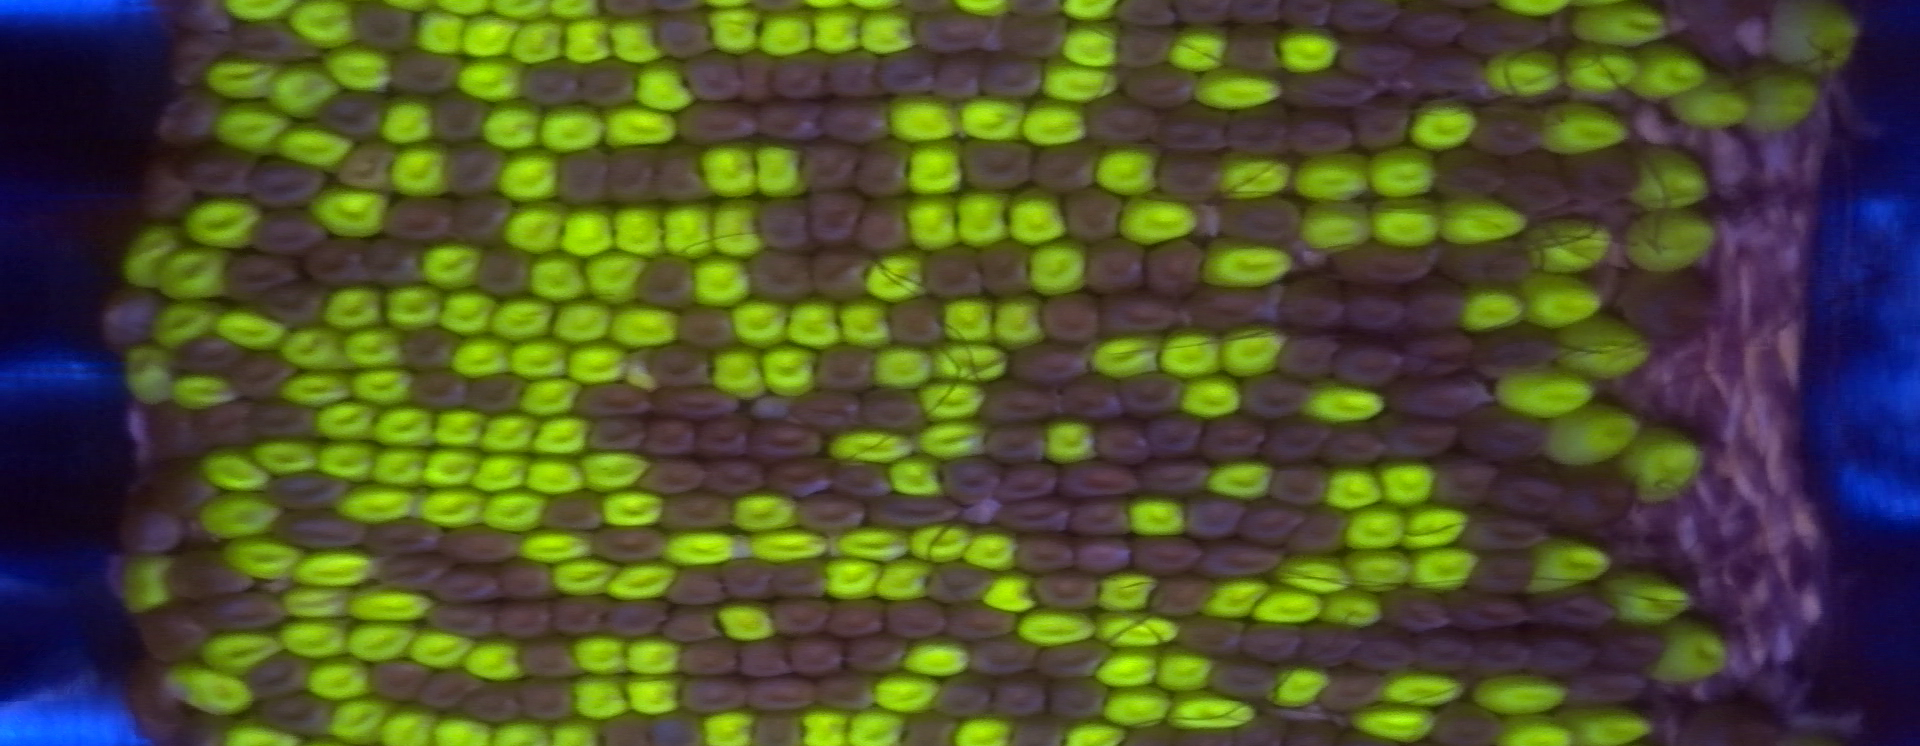fluorescent: (1762, 1, 1861, 85), (1548, 312, 1656, 385), (1542, 394, 1643, 468), (1632, 140, 1713, 222), (1619, 209, 1720, 271), (1736, 60, 1820, 134), (1491, 364, 1598, 420), (1517, 269, 1605, 334), (1622, 432, 1703, 501), (1440, 187, 1531, 247), (1198, 236, 1296, 292), (1622, 40, 1711, 100), (1602, 571, 1693, 628), (1523, 219, 1618, 274), (160, 661, 257, 714), (1036, 53, 1129, 107), (1551, 707, 1675, 746), (1091, 140, 1169, 201), (1537, 100, 1624, 156), (1363, 194, 1445, 251), (1293, 200, 1380, 254), (1570, 4, 1669, 50), (212, 103, 299, 156), (120, 225, 191, 289), (493, 146, 572, 203), (1113, 195, 1202, 245), (156, 243, 235, 299), (1673, 67, 1747, 127), (951, 94, 1036, 147), (313, 187, 396, 241), (1457, 281, 1536, 337), (688, 250, 754, 316), (1656, 626, 1723, 691), (1471, 677, 1578, 718), (1025, 239, 1097, 299), (1211, 149, 1292, 202), (267, 60, 340, 118), (609, 200, 673, 263), (196, 495, 291, 538), (540, 102, 613, 157), (276, 120, 360, 168), (1532, 538, 1608, 590), (569, 675, 649, 725), (1480, 54, 1573, 97), (1348, 704, 1450, 744), (504, 201, 571, 261), (189, 194, 267, 244), (1565, 44, 1641, 96), (902, 136, 966, 197), (283, 1, 362, 50), (864, 251, 933, 307), (224, 537, 305, 584), (457, 638, 531, 690), (1171, 691, 1262, 733), (1153, 327, 1231, 376), (885, 97, 971, 141), (1363, 149, 1444, 196), (596, 103, 681, 147), (324, 44, 397, 96), (864, 338, 932, 393), (1296, 383, 1390, 423), (1018, 97, 1091, 147), (902, 194, 965, 252), (700, 142, 763, 201), (1005, 189, 1069, 246), (1202, 459, 1284, 503), (273, 619, 353, 664), (560, 205, 620, 265), (580, 251, 654, 300), (413, 7, 474, 66), (751, 9, 820, 60), (407, 621, 476, 673), (527, 247, 591, 303), (928, 341, 1014, 382), (825, 428, 913, 468), (479, 488, 551, 537), (481, 97, 550, 148), (850, 9, 923, 56), (954, 189, 1013, 247), (658, 205, 718, 262), (1403, 505, 1476, 552), (200, 447, 276, 492), (214, 306, 290, 352), (336, 486, 418, 528), (564, 341, 639, 386), (1103, 684, 1176, 730), (1264, 666, 1336, 713), (149, 303, 222, 349), (1093, 611, 1179, 650), (279, 328, 353, 374), (1404, 552, 1487, 593), (991, 299, 1048, 356), (786, 298, 846, 353), (599, 488, 673, 532), (1224, 323, 1287, 376), (460, 10, 523, 62), (939, 296, 1000, 349), (977, 570, 1044, 617), (659, 528, 741, 567), (1318, 587, 1392, 630), (197, 631, 284, 668), (612, 303, 681, 349), (211, 58, 283, 102), (752, 143, 808, 200), (1281, 556, 1359, 597), (1091, 337, 1169, 377), (164, 369, 242, 409), (1014, 610, 1097, 648), (1381, 674, 1473, 708), (808, 6, 869, 58), (1205, 578, 1272, 625), (305, 654, 372, 701), (1164, 24, 1228, 73), (376, 96, 440, 145), (345, 587, 436, 621), (839, 296, 895, 352), (115, 555, 171, 610), (441, 290, 506, 338), (1199, 72, 1286, 108), (1123, 495, 1193, 539), (416, 484, 486, 528), (517, 374, 583, 420), (1042, 416, 1103, 467), (869, 675, 945, 715), (1296, 157, 1369, 198), (727, 490, 798, 533), (1378, 461, 1441, 508), (714, 603, 782, 647), (707, 5, 765, 56), (520, 528, 602, 565), (636, 62, 696, 113), (627, 671, 694, 715), (122, 345, 176, 401), (448, 333, 516, 377), (709, 205, 765, 257), (1060, 23, 1124, 70), (393, 146, 454, 194), (1093, 572, 1163, 614), (506, 337, 576, 379), (553, 296, 616, 343), (367, 445, 435, 488), (1347, 506, 1411, 551), (470, 450, 534, 495), (420, 243, 484, 288), (1416, 103, 1476, 151), (962, 526, 1022, 573), (1272, 32, 1341, 73), (580, 451, 649, 492), (458, 59, 527, 100), (378, 703, 444, 746), (907, 527, 980, 566), (1344, 551, 1417, 590), (820, 555, 883, 600), (296, 551, 378, 586), (347, 622, 405, 670), (493, 296, 557, 341), (1258, 587, 1325, 628), (718, 349, 770, 402), (553, 555, 622, 595), (759, 345, 816, 394), (730, 301, 792, 345), (560, 20, 618, 66), (323, 283, 387, 326), (835, 529, 913, 563), (1157, 646, 1215, 692), (507, 18, 564, 65), (375, 405, 435, 450), (316, 437, 376, 481), (627, 635, 688, 677), (280, 370, 351, 407), (907, 639, 973, 679), (609, 18, 662, 66), (1091, 650, 1166, 685), (915, 423, 994, 454), (752, 532, 834, 562), (567, 638, 633, 676), (887, 454, 947, 496), (873, 562, 937, 601), (917, 385, 981, 424), (605, 567, 683, 599), (347, 327, 410, 366), (534, 416, 590, 461), (253, 439, 323, 474), (312, 398, 380, 435), (431, 408, 489, 451), (527, 453, 585, 495), (386, 287, 446, 327), (351, 372, 416, 409), (1180, 383, 1247, 419), (328, 702, 384, 744), (430, 714, 502, 746), (426, 446, 479, 488), (847, 708, 905, 746), (482, 415, 536, 456), (282, 589, 353, 619), (800, 708, 853, 746), (1331, 469, 1380, 510), (951, 718, 1018, 746), (699, 713, 756, 746), (222, 726, 304, 746), (550, 718, 605, 746), (493, 722, 552, 746), (231, 1, 307, 18)
nonfluorescent: (1611, 258, 1713, 343), (1673, 1, 1779, 78), (1551, 462, 1638, 534), (1461, 401, 1550, 463), (1422, 450, 1502, 516), (1440, 235, 1544, 285), (1092, 289, 1195, 339), (955, 134, 1032, 197), (127, 657, 184, 744), (1673, 707, 1798, 746), (118, 488, 185, 559), (1502, 153, 1573, 219), (1213, 200, 1311, 247), (1462, 6, 1553, 58), (1152, 100, 1237, 156), (302, 230, 378, 292), (1431, 145, 1509, 205), (1494, 464, 1570, 524), (1082, 235, 1151, 301), (247, 208, 336, 260), (1331, 238, 1434, 282), (747, 247, 822, 307), (1283, 100, 1359, 159), (866, 489, 960, 535), (1153, 148, 1229, 206), (1442, 586, 1536, 632), (133, 605, 212, 660), (1524, 586, 1622, 630), (99, 288, 167, 352), (143, 402, 212, 464), (1467, 100, 1543, 157), (909, 7, 993, 58), (1469, 330, 1562, 375), (318, 85, 393, 141), (798, 145, 867, 206), (1008, 344, 1106, 387), (146, 467, 225, 519), (1567, 151, 1643, 206), (993, 12, 1076, 62), (1403, 45, 1488, 94), (1062, 187, 1129, 249), (170, 552, 256, 600), (1082, 94, 1158, 148), (1378, 416, 1461, 465), (1040, 673, 1117, 725), (650, 141, 713, 206), (809, 245, 876, 306), (1461, 511, 1553, 555), (361, 232, 429, 292), (1384, 1, 1468, 49), (182, 148, 261, 200), (249, 159, 331, 208), (1035, 292, 1106, 348), (157, 91, 229, 146), (264, 274, 337, 330), (222, 252, 305, 300), (336, 140, 403, 198), (1342, 277, 1411, 334), (1375, 590, 1464, 635), (673, 100, 760, 146), (387, 47, 463, 98), (820, 96, 896, 147), (677, 670, 753, 722), (1177, 610, 1253, 661), (934, 451, 1000, 510), (273, 510, 372, 549), (977, 383, 1063, 429), (469, 245, 536, 303), (348, 2, 421, 55), (1390, 379, 1495, 415), (632, 258, 700, 315), (1532, 627, 1607, 679), (230, 24, 317, 69), (1149, 239, 1209, 303), (1185, 490, 1249, 550), (754, 197, 819, 256), (856, 390, 936, 437), (920, 246, 987, 303), (1277, 278, 1346, 333), (1466, 549, 1540, 599), (138, 163, 200, 224), (1281, 70, 1382, 107), (1338, 38, 1428, 80), (1264, 461, 1340, 510), (749, 416, 831, 462), (1425, 699, 1507, 745), (382, 196, 456, 246), (444, 198, 518, 249), (642, 343, 719, 391), (1119, 69, 1207, 110), (204, 592, 293, 633), (803, 192, 868, 249), (662, 490, 741, 537), (1130, 456, 1215, 499), (1562, 670, 1652, 710), (743, 673, 817, 722), (1211, 658, 1284, 707), (555, 149, 617, 207), (981, 236, 1038, 299), (1031, 142, 1101, 194), (424, 599, 507, 642), (1592, 625, 1667, 673), (1224, 105, 1296, 156), (1142, 412, 1209, 465), (752, 100, 830, 146), (1411, 622, 1478, 675), (440, 526, 527, 566), (682, 51, 746, 107), (1349, 96, 1413, 151), (1194, 539, 1289, 576), (984, 51, 1051, 104), (1056, 459, 1141, 500), (773, 51, 831, 110), (165, 36, 234, 86), (1057, 372, 1125, 423), (650, 383, 741, 421), (986, 676, 1062, 722), (1116, 22, 1179, 76), (1262, 416, 1332, 465), (884, 299, 951, 349), (500, 555, 567, 605), (793, 388, 866, 435), (367, 516, 444, 559), (493, 598, 561, 647), (827, 458, 901, 502), (1237, 376, 1311, 420), (607, 145, 660, 207), (441, 147, 504, 198), (812, 345, 880, 393), (234, 350, 302, 398), (1276, 328, 1344, 376), (1200, 416, 1269, 464), (257, 695, 340, 734), (1330, 347, 1408, 388), (429, 93, 493, 143), (516, 675, 580, 725), (797, 492, 871, 537), (1234, 621, 1308, 665), (983, 423, 1054, 468), (825, 597, 893, 644), (573, 383, 655, 423), (522, 59, 584, 110), (264, 468, 351, 505), (196, 403, 264, 450), (590, 526, 671, 565), (765, 456, 835, 501), (1297, 622, 1367, 668), (860, 142, 912, 202), (1221, 26, 1287, 73), (939, 47, 989, 109), (1182, 288, 1270, 323), (879, 51, 943, 100), (637, 456, 714, 496), (541, 488, 606, 535), (1404, 284, 1469, 332), (397, 326, 469, 369), (1030, 571, 1102, 614), (858, 200, 911, 258), (1234, 500, 1300, 546), (846, 635, 913, 680), (931, 673, 994, 720), (1125, 535, 1202, 575), (1473, 630, 1536, 677), (408, 367, 471, 414), (582, 61, 639, 113), (1095, 414, 1152, 465), (424, 666, 482, 717), (1119, 372, 1184, 418), (255, 401, 323, 443), (943, 599, 1018, 638), (969, 637, 1041, 677), (829, 51, 885, 103), (651, 13, 719, 56), (1322, 424, 1390, 467), (677, 305, 741, 350), (1011, 534, 1076, 578), (1409, 333, 1478, 375), (1349, 632, 1418, 674), (664, 599, 725, 646), (1036, 639, 1111, 677), (787, 635, 851, 679), (1067, 540, 1134, 582), (1322, 669, 1390, 710), (811, 675, 879, 715), (1293, 510, 1349, 559), (705, 458, 771, 500), (1149, 575, 1211, 619), (997, 459, 1060, 502), (437, 562, 504, 603), (604, 599, 671, 639), (696, 416, 757, 461), (775, 592, 836, 636), (719, 554, 775, 601), (1003, 501, 1078, 537), (460, 686, 524, 728), (517, 642, 580, 684), (678, 643, 748, 681), (369, 660, 429, 704), (767, 560, 834, 599), (244, 658, 311, 697), (929, 562, 994, 603), (740, 638, 797, 684), (583, 416, 651, 454), (463, 374, 525, 415), (170, 339, 245, 374), (737, 47, 779, 108), (883, 598, 944, 639), (1335, 1, 1408, 36), (1070, 502, 1136, 540), (639, 416, 696, 461), (670, 566, 729, 608), (644, 707, 707, 746), (380, 556, 447, 590), (550, 597, 610, 635), (174, 1, 236, 36), (602, 714, 666, 746), (898, 717, 965, 746), (751, 714, 811, 746)
